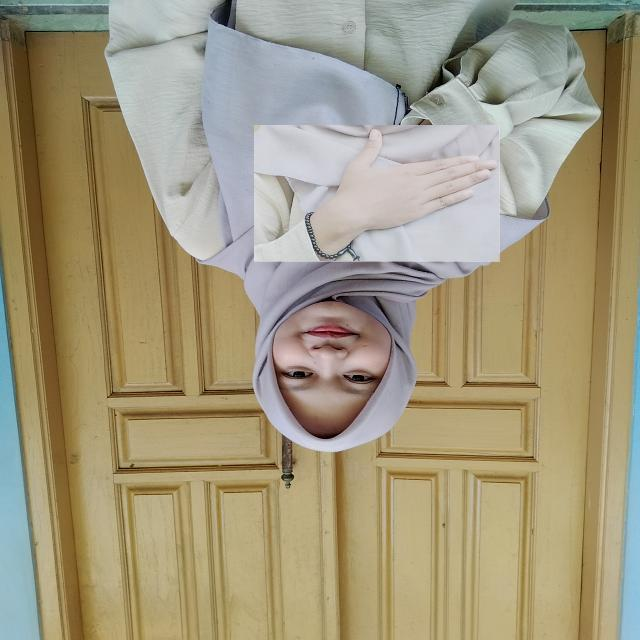tolong: (254, 125, 500, 262)
